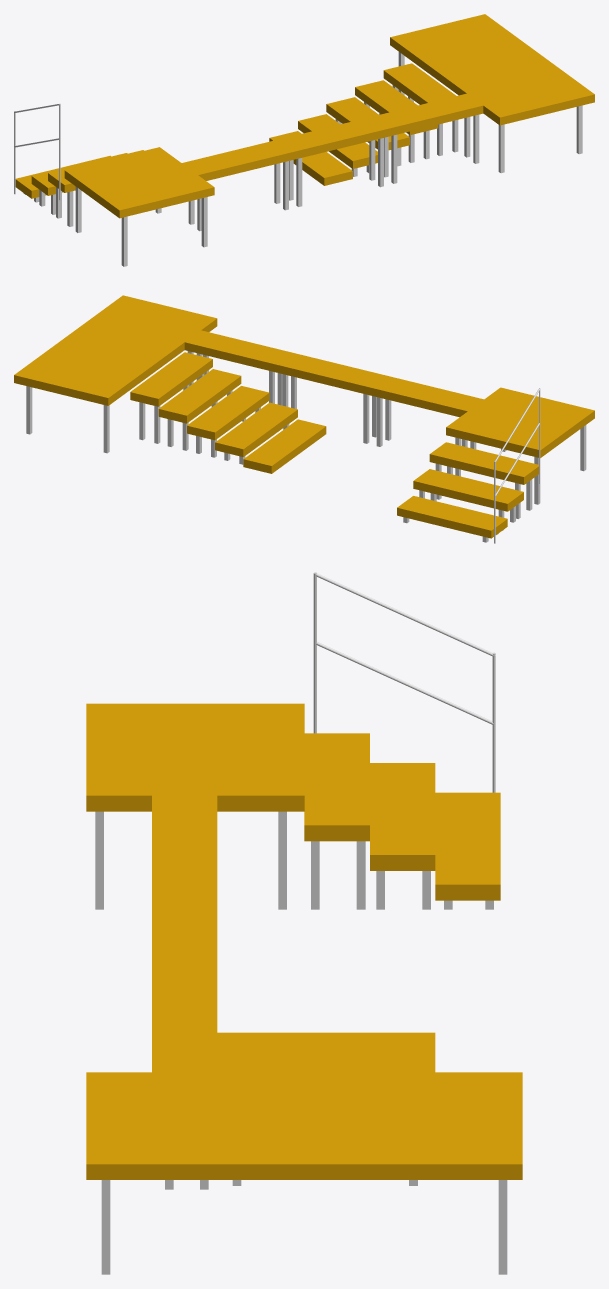
The model's file is staircases_koroibot_hr.dae.
3 views of the same model, one above another, from view 1: azimuth 30°, elevation 25°; view 2: azimuth 150°, elevation 25°; view 3: azimuth 270°, elevation 25° (orthographic). The views are drawn at different scales.
Visible parts, largest first — view 1: node_005, node_009, node_007, node_006, node_008, node_004, node_003, node, node_001, node_002, node_011, node_010 (+3 smaller); view 2: node_005, node_009, node_011, node_012, node_010, node_007, node_006, node_008, node_003, node, node_004, node_002 (+3 smaller); view 3: node_005, node_009, node_010, node_011, node_012, node_006, node_008, node_007, node, node_001, node_003, node_004 (+5 smaller).
Part boxes in pixels (box(x1,y1,x2,y2)): node_005: box(390, 14, 594, 125); node_009: box(64, 147, 214, 218); node_007: box(277, 116, 388, 159); node_006: box(372, 93, 483, 136); node_008: box(182, 140, 293, 180); node_004: box(383, 63, 456, 104); node_003: box(355, 80, 438, 135); node: box(269, 131, 352, 185); node_001: box(298, 114, 377, 168); node_002: box(326, 97, 409, 150); node_011: box(15, 155, 110, 198); node_010: box(48, 150, 143, 192); node_005: box(14, 295, 217, 405); node_009: box(446, 387, 594, 457); node_011: box(397, 496, 507, 538); node_012: box(413, 469, 523, 511); node_010: box(429, 442, 538, 484); node_007: box(279, 353, 389, 396); node_006: box(184, 330, 294, 372); node_008: box(373, 376, 483, 417); node_003: box(158, 369, 241, 423); node: box(243, 419, 326, 473); node_004: box(130, 352, 212, 406); node_002: box(187, 386, 269, 440); node_005: box(86, 1072, 522, 1179); node_009: box(86, 703, 304, 811); node_010: box(304, 733, 369, 841); node_011: box(435, 792, 500, 900); node_012: box(370, 763, 435, 870); node_006: box(152, 980, 217, 1072); node_008: box(152, 795, 217, 887); node_007: box(152, 888, 217, 979); node: box(217, 1032, 435, 1040); node_001: box(217, 1040, 435, 1048); node_003: box(217, 1056, 435, 1064); node_004: box(217, 1064, 435, 1072).
Size of the model in its own units: 5.03 by 2 by 1.25.
